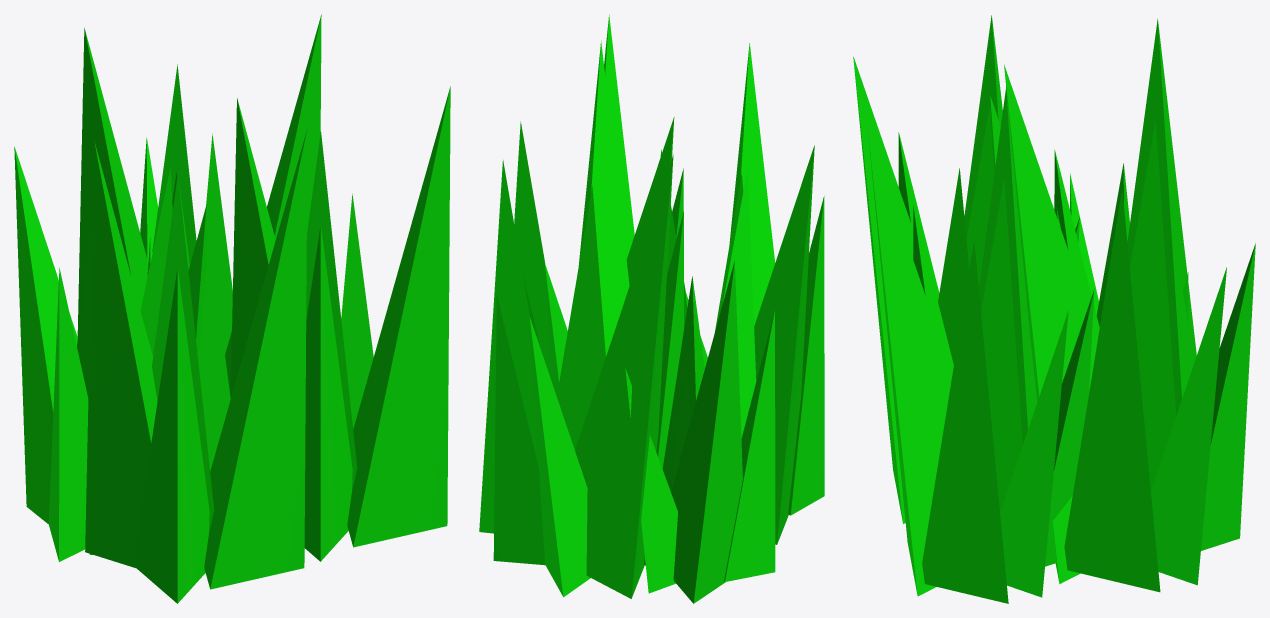
File: CIMEN_TOPLU.fbx
3 renders of one model, left to right at view 1: azimuth 30°, elevation 25°; view 2: azimuth 150°, elevation 25°; view 3: azimuth 270°, elevation 25°, orthographic. The views are drawn at different scales.
Parts seen in each view (by area): view 1: Cone.005; view 2: Cone.005; view 3: Cone.005.
Part boxes in pixels (<box>): Cone.005: <box>14,14,450,603</box>; Cone.005: <box>479,14,824,603</box>; Cone.005: <box>853,15,1255,603</box>.
Size of the model in its own units: 68.87 by 98.82 by 70.43.
